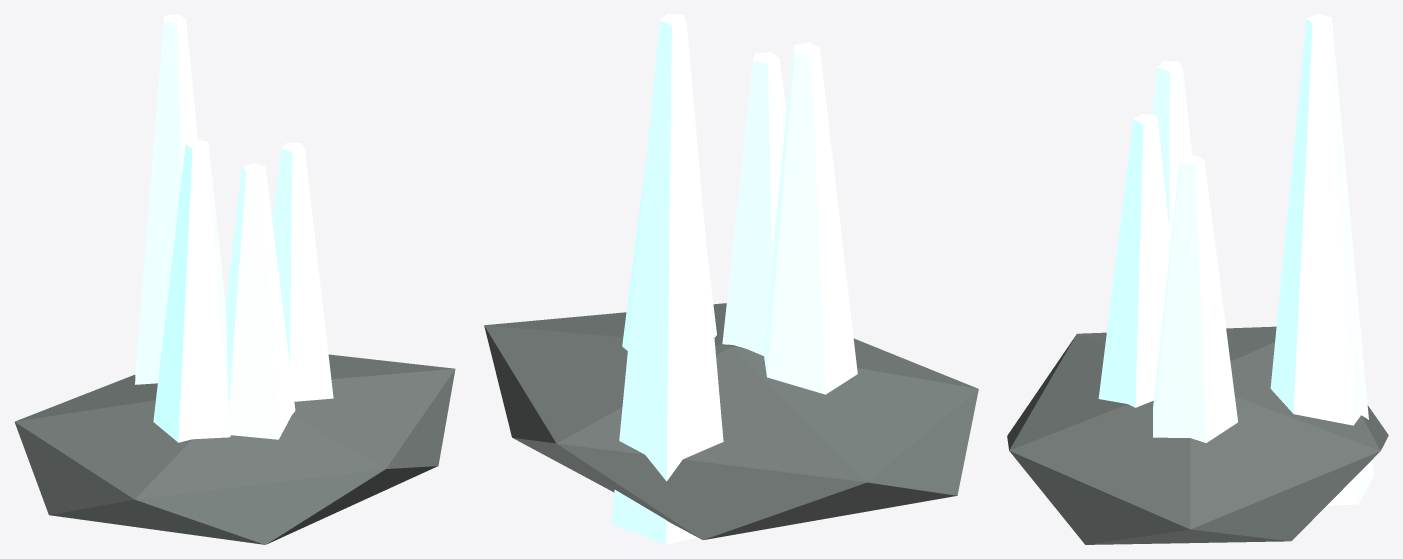
Rendered from glow_crystal_01.glb.
3 views of the same model, side by side, from view 1: azimuth 30°, elevation 25°; view 2: azimuth 150°, elevation 25°; view 3: azimuth 270°, elevation 25° (orthographic). The views are drawn at different scales.
Parts seen in each view (by area): view 1: glow_crystal_01; view 2: glow_crystal_01; view 3: glow_crystal_01.
Boxes of the visible parts, x1,y1,x2,y2 form: glow_crystal_01: (14,14,455,544); glow_crystal_01: (484,14,978,544); glow_crystal_01: (1007,14,1388,544).
Bounding box in the file's own units: 0.688 × 0.7132 × 0.5145.
